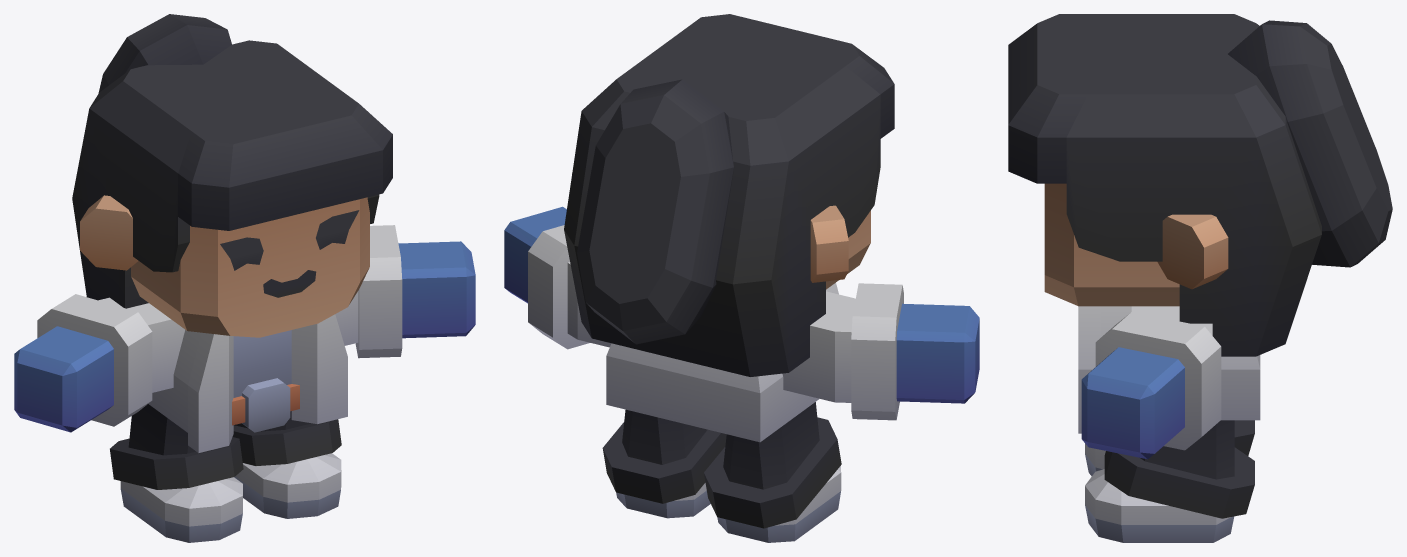
Rendered from citizen-female-e.glb.
3 views of the same model, side by side, from view 1: azimuth 30°, elevation 25°; view 2: azimuth 150°, elevation 25°; view 3: azimuth 270°, elevation 25° (orthographic). The views are drawn at different scales.
Parts seen in each view (by area): view 1: citizen-female-e; view 2: citizen-female-e; view 3: citizen-female-e.
Part boxes in pixels (x1=…): citizen-female-e: x1=14, y1=14, x2=475, y2=542; citizen-female-e: x1=504, y1=14, x2=979, y2=542; citizen-female-e: x1=1008, y1=14, x2=1392, y2=542.
Size of the model in its own units: 1.07 by 1 by 0.7356.
